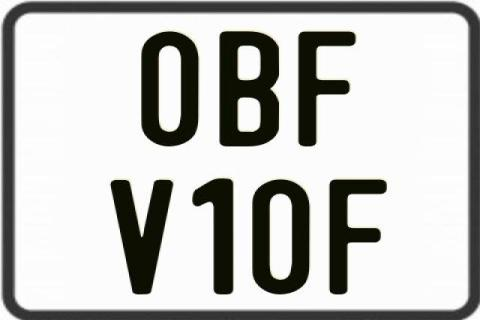0: (138, 31, 200, 146), (251, 178, 311, 294), (192, 177, 234, 295)
B: (220, 30, 285, 146)
F: (296, 29, 358, 147), (329, 178, 390, 296)
V: (109, 179, 171, 295)
